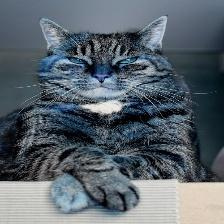kedo: (2, 18, 210, 211)
